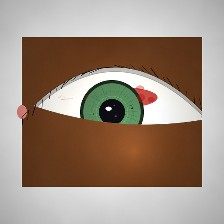hemorrhage_spot: (79, 61, 170, 134)
